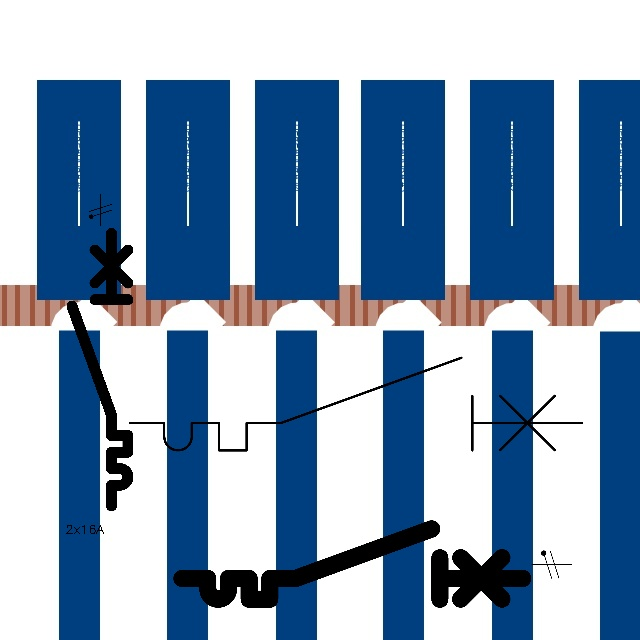interruptor_termomagnetico: (118, 346, 594, 462), (173, 520, 532, 608), (65, 226, 135, 513)
